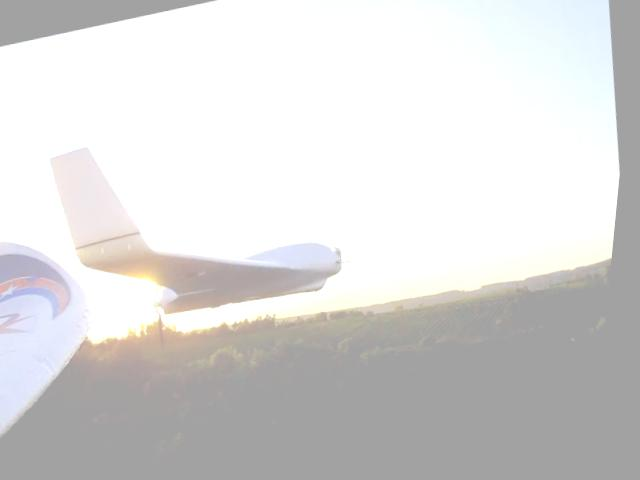plane: (36, 97, 366, 351)
